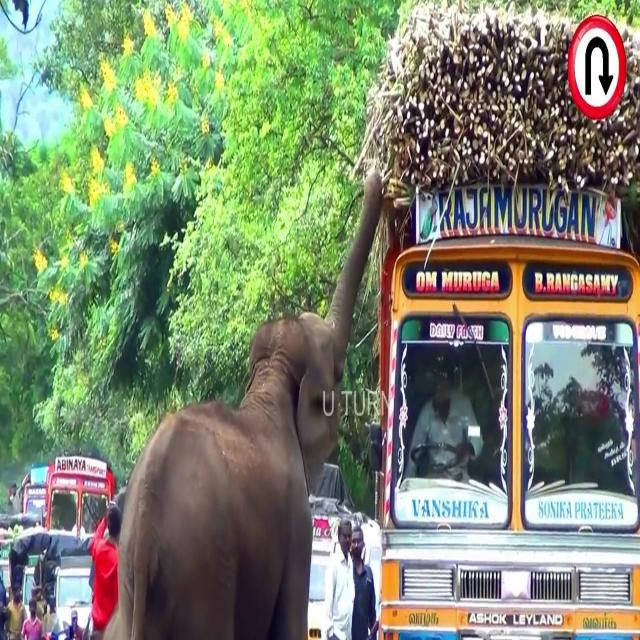Elephant: (108, 166, 384, 633)
